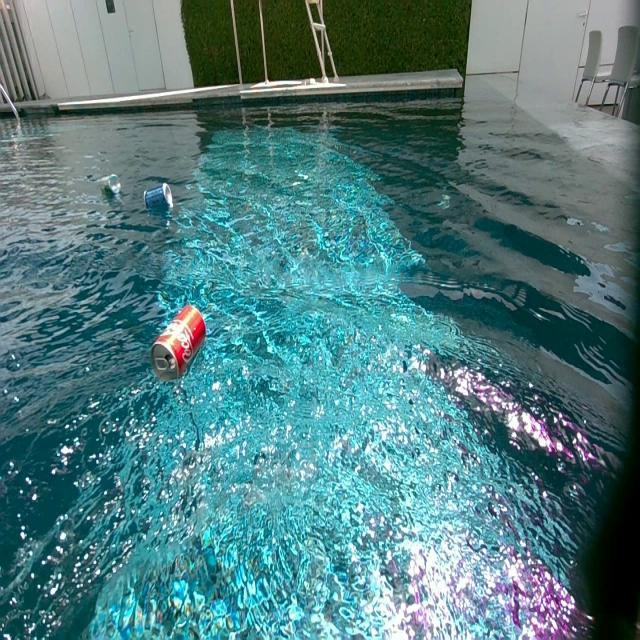Cans: (150, 306, 206, 383), (146, 181, 174, 209), (102, 174, 120, 194)
